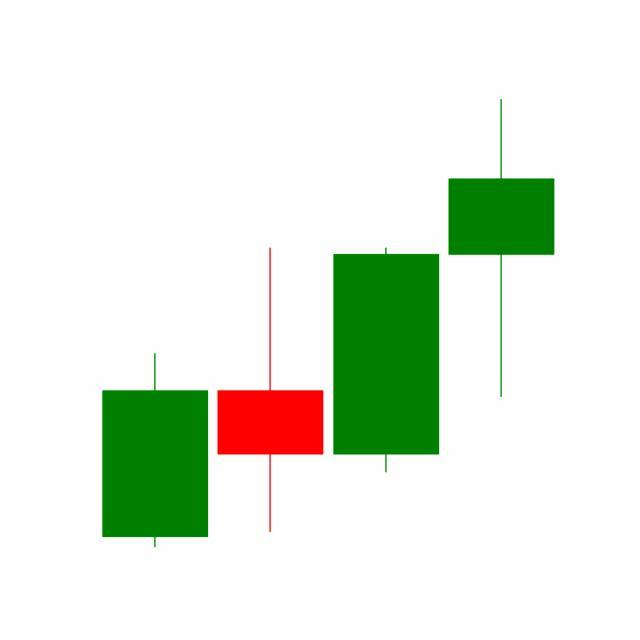Spinning Top: (444, 96, 560, 401)
